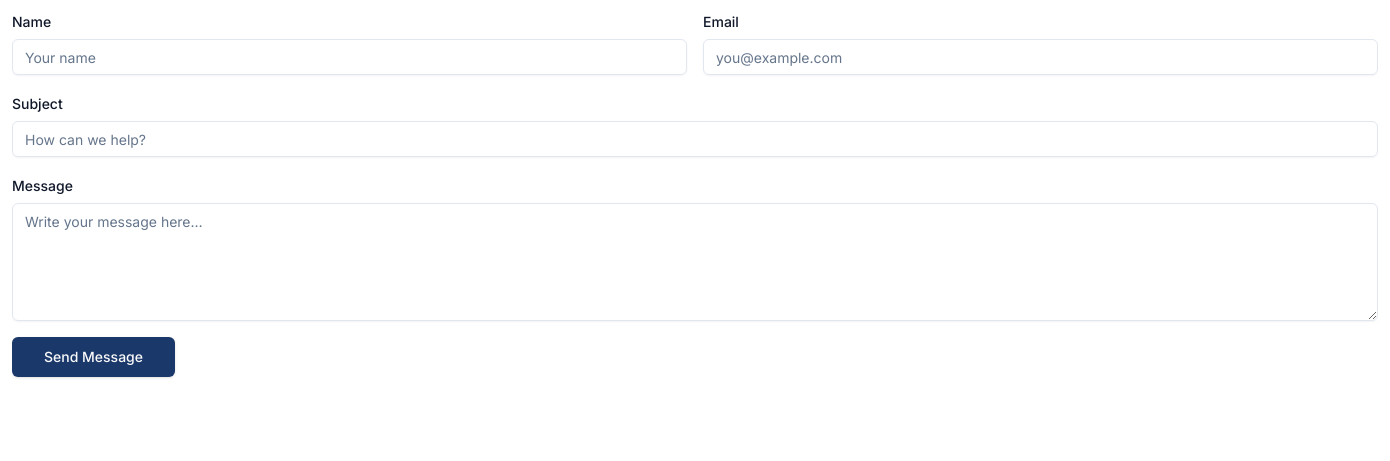
Test case: ContactForm › error clearing on change › clears the name error when the user types into the name field
Step 1. Click the button "Send Message" → click(94, 357), box [12,337,175,377]
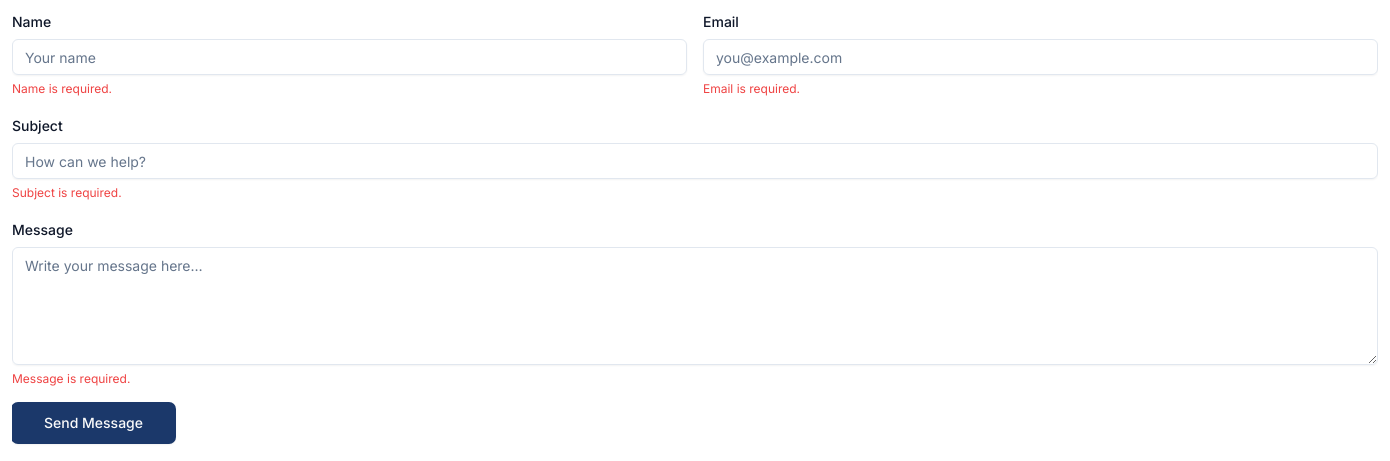
Check: the text "Name is required." is shown, box [12,81,112,96]
Step 2. Type "J" into the field labelled "Name" → (350, 57), box [12,39,687,75]
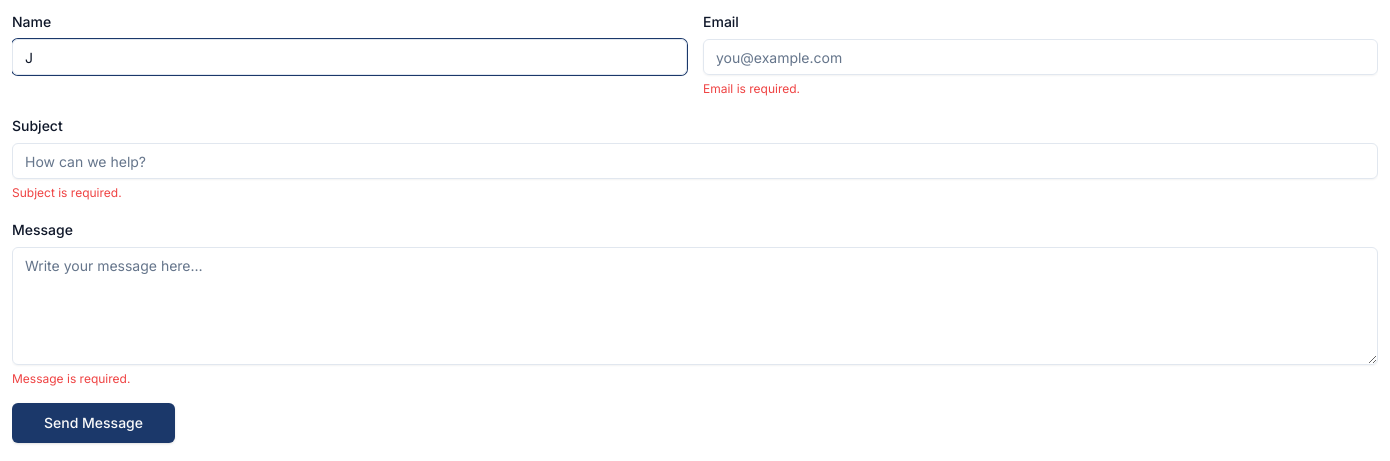
Check: the text "Name is required." is gone
